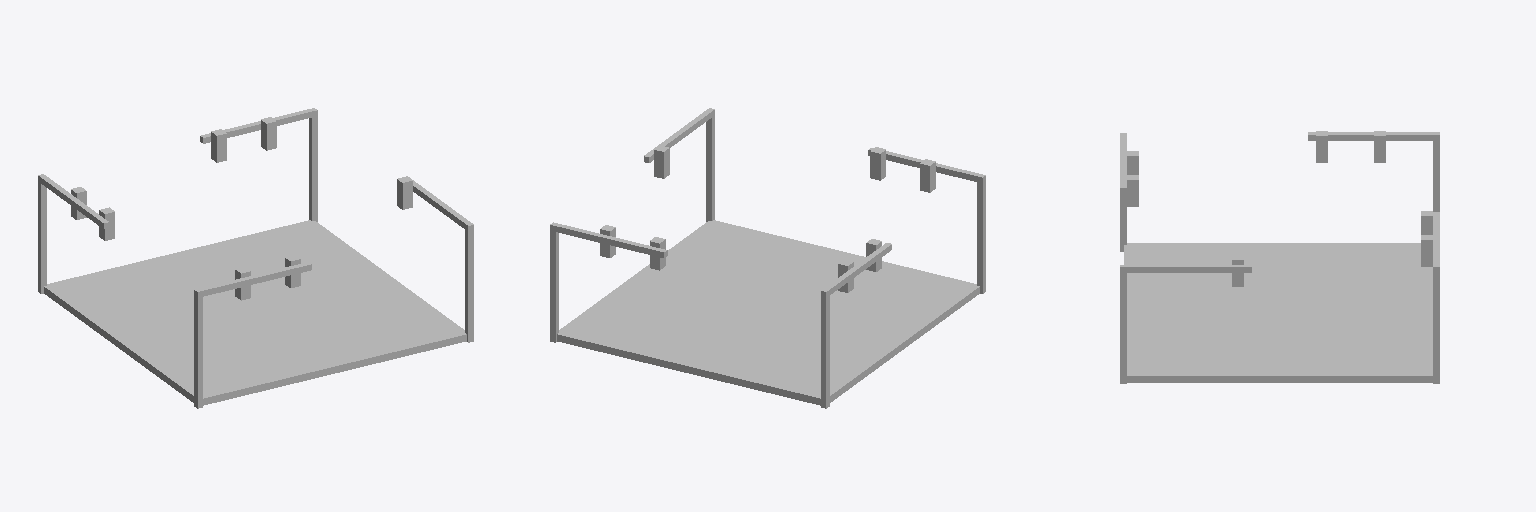
Rendered from inter2221.obj.
3 renders of one model, left to right at view 1: azimuth 30°, elevation 25°; view 2: azimuth 150°, elevation 25°; view 3: azimuth 270°, elevation 25°, orthographic.
Visible parts, largest first — view 1: 2221_intersection_Plane.001, 2221_stoplights_Cube.013; view 2: 2221_intersection_Plane.001, 2221_stoplights_Cube.013; view 3: 2221_intersection_Plane.001, 2221_stoplights_Cube.013.
Part boxes in pixels (left/top/right/bottom): 2221_intersection_Plane.001: left=44, top=220, right=466, bottom=405; 2221_stoplights_Cube.013: left=38, top=108, right=473, bottom=408; 2221_intersection_Plane.001: left=557, top=220, right=979, bottom=405; 2221_stoplights_Cube.013: left=550, top=108, right=985, bottom=408; 2221_intersection_Plane.001: left=1124, top=243, right=1432, bottom=382; 2221_stoplights_Cube.013: left=1120, top=131, right=1439, bottom=383.
Bounding box in the file's own units: 4.08 × 1.71 × 4.08.